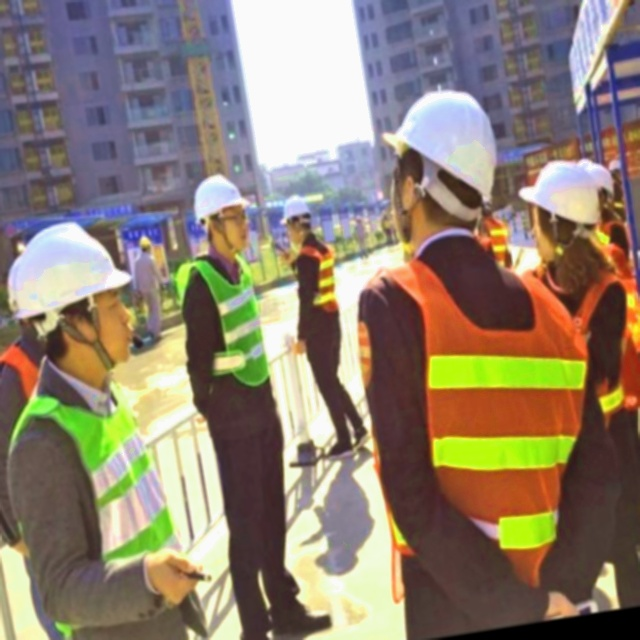Con_Casco: (187, 167, 255, 255)
Con_Chaleco: (343, 249, 615, 601), (3, 367, 196, 626), (167, 253, 286, 409), (285, 239, 342, 321)
